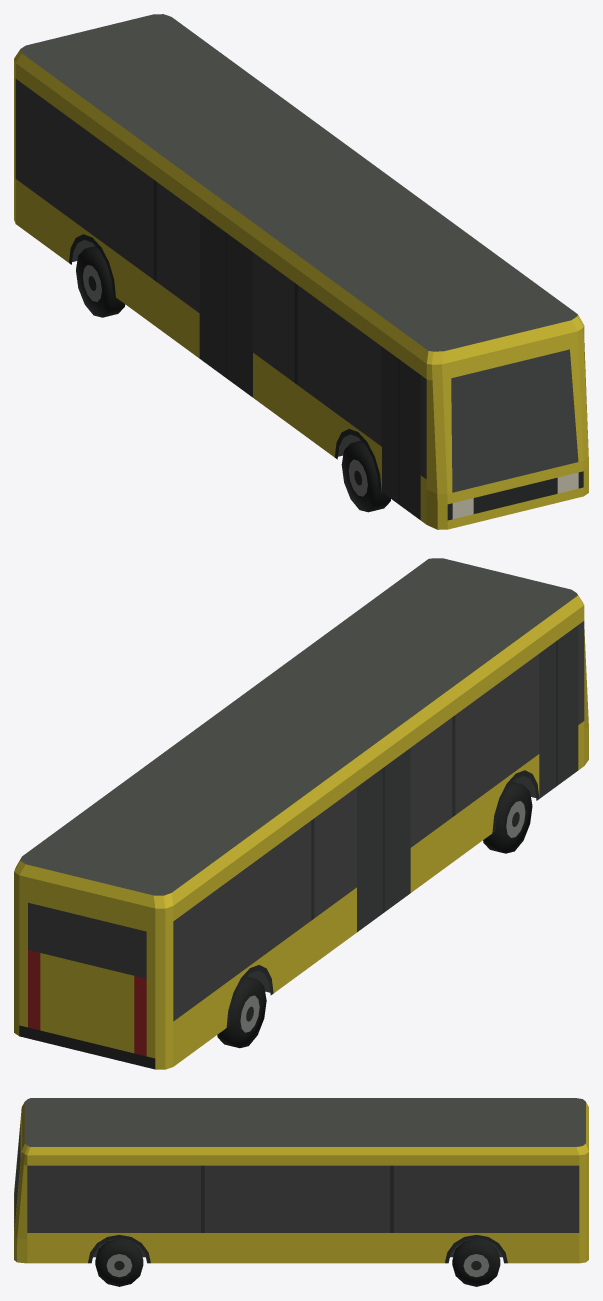
The model's file is bvg_bus_lowpoly_v3.glb.
3 renders of one model, top to bottom at view 1: azimuth 30°, elevation 25°; view 2: azimuth 150°, elevation 25°; view 3: azimuth 270°, elevation 25°, orthographic. The views are drawn at different scales.
Visible parts, largest first — view 1: bvg_bus_lowpoly_v3; view 2: bvg_bus_lowpoly_v3; view 3: bvg_bus_lowpoly_v3.
Boxes of the visible parts, x1=… form: bvg_bus_lowpoly_v3: x1=14, y1=14, x2=588, y2=529; bvg_bus_lowpoly_v3: x1=14, y1=558, x2=588, y2=1069; bvg_bus_lowpoly_v3: x1=14, y1=1098, x2=588, y2=1286.
Size of the model in its own units: 2.55 by 3.2 by 12.
